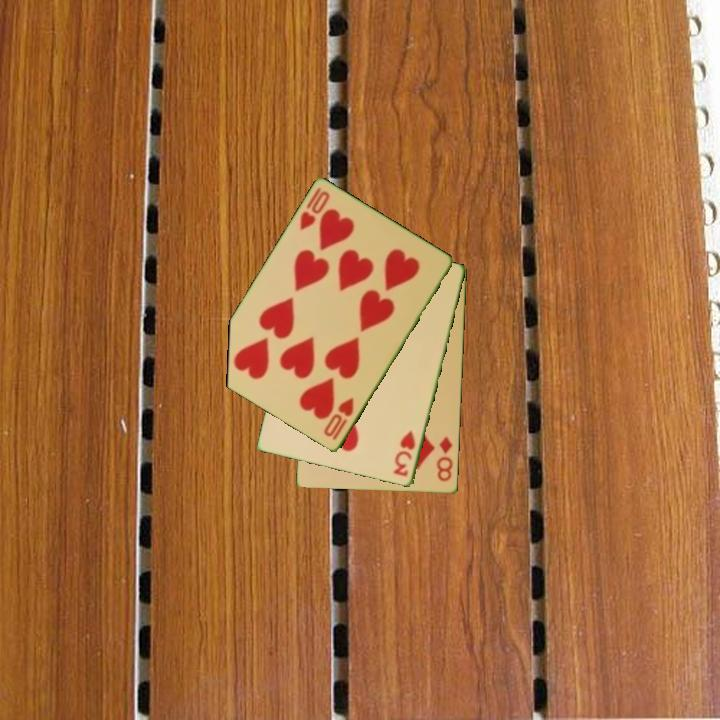10h: (320, 394, 357, 444), (296, 184, 333, 233)
3h: (390, 427, 419, 480)
8d: (433, 433, 456, 484)
